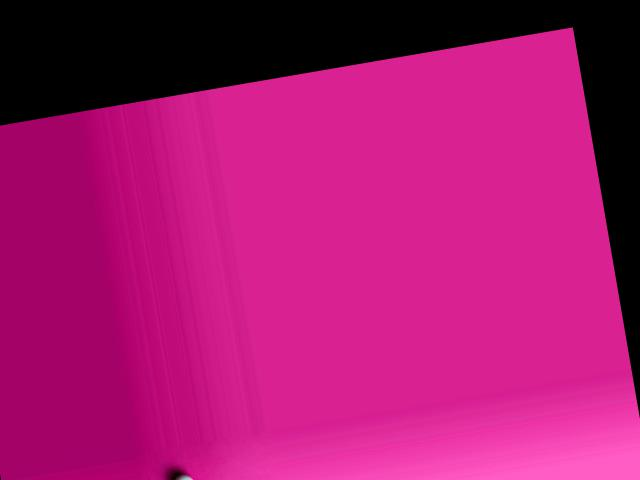egg: (172, 472, 199, 480)
